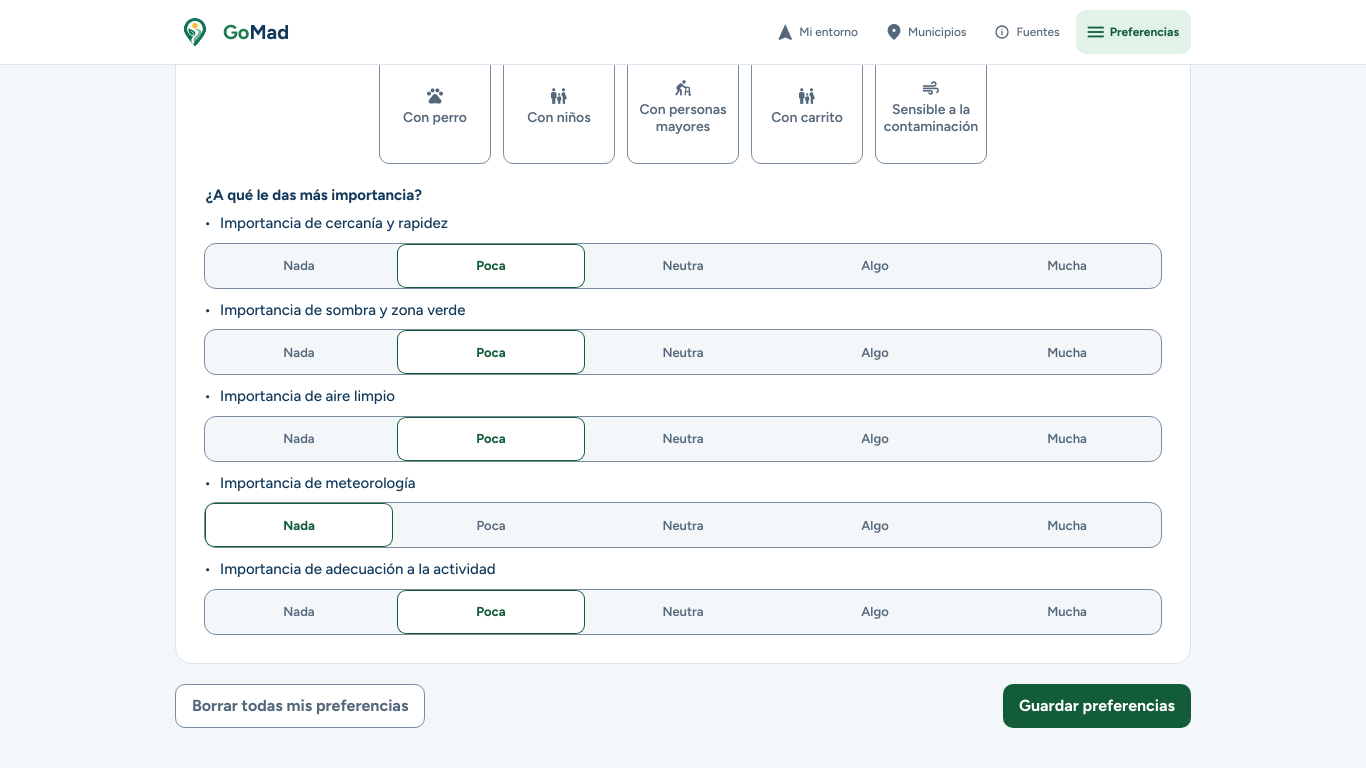
Perfil › pide confirmación antes de restablecer los pesos y permite cancelar
(page scrolled)
Click the 3rd radio button labelled "Mucha".
click(1067, 439)  # box [1047,431,1087,446]
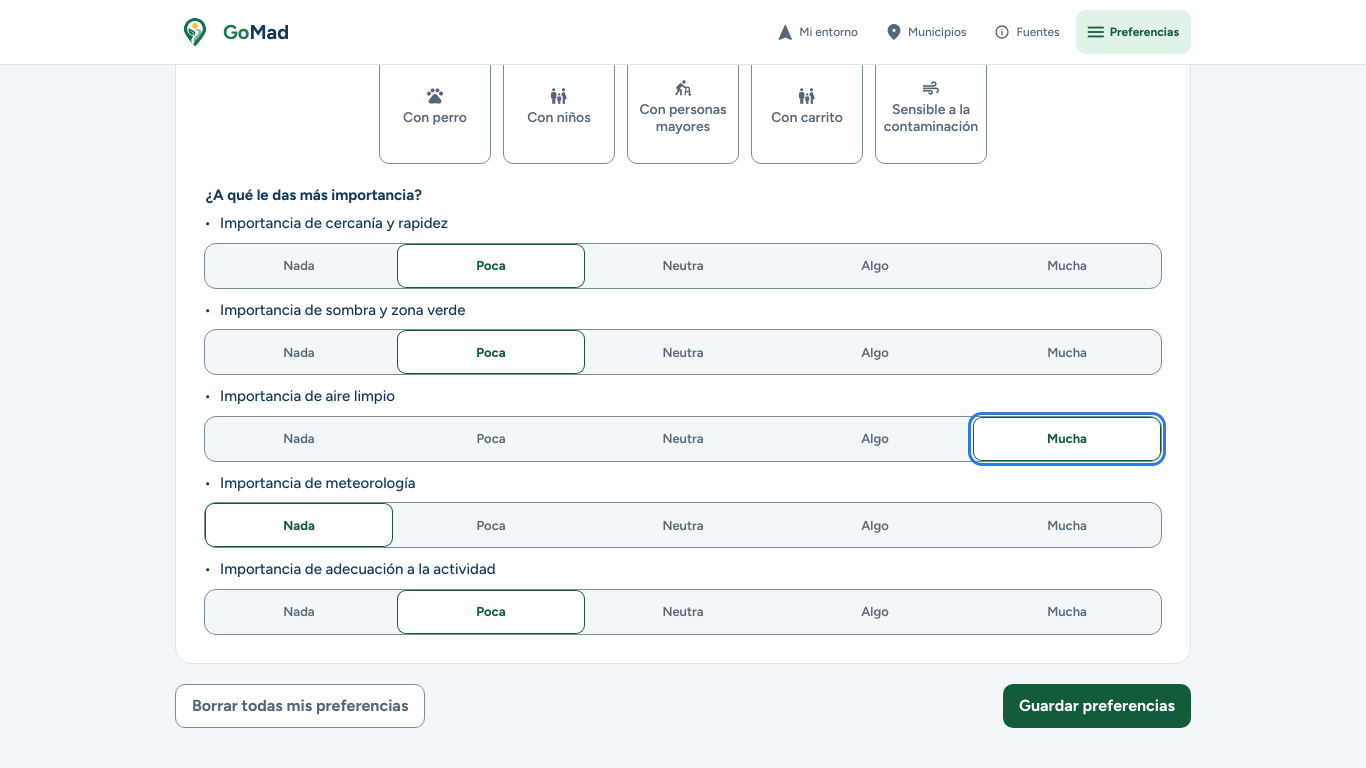
Expected: the 3rd radio button labelled "Mucha" is checked, [973,417,1161,461]
Click the button "Borrar todas mis preferencias".
click(300, 706)  # box [175,684,425,728]
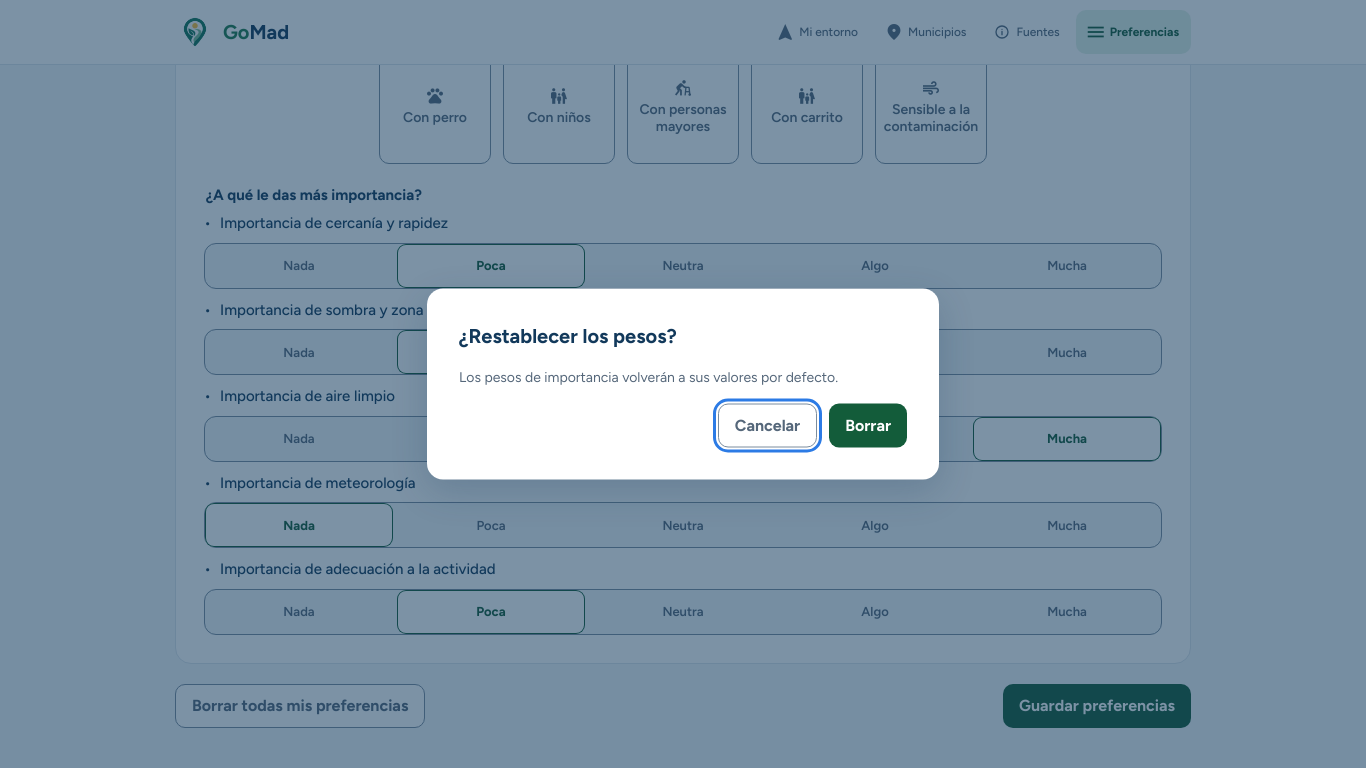
Expected: the 3rd radio button labelled "Mucha" is checked, [973,417,1161,461]
Click the button "Cancelar".
click(768, 426)  # box [718,404,817,448]
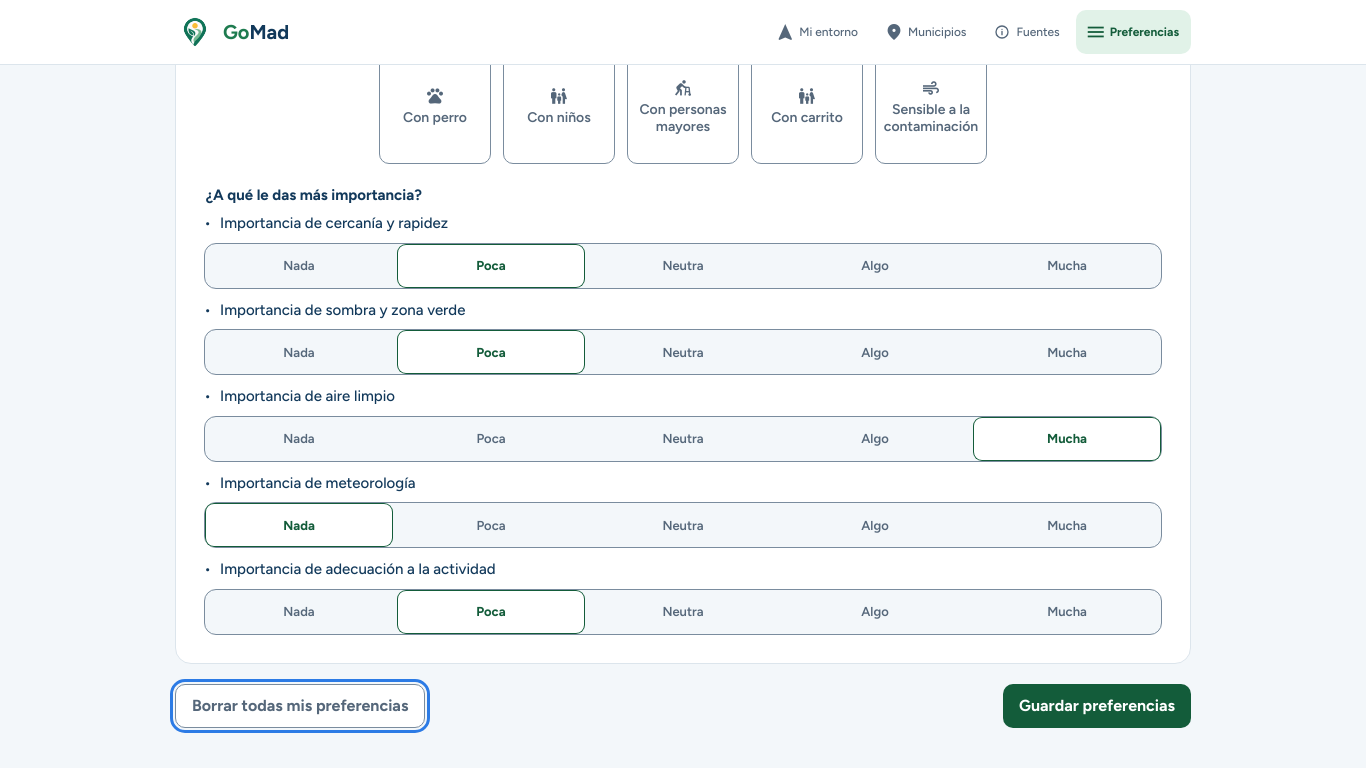
Expected: the 3rd radio button labelled "Mucha" is checked, [973,417,1161,461]
Expected: the heading "¿Restablecer los pesos?" is gone
Click the button "Borrar todas mis preferencias".
click(300, 706)  # box [175,684,425,728]
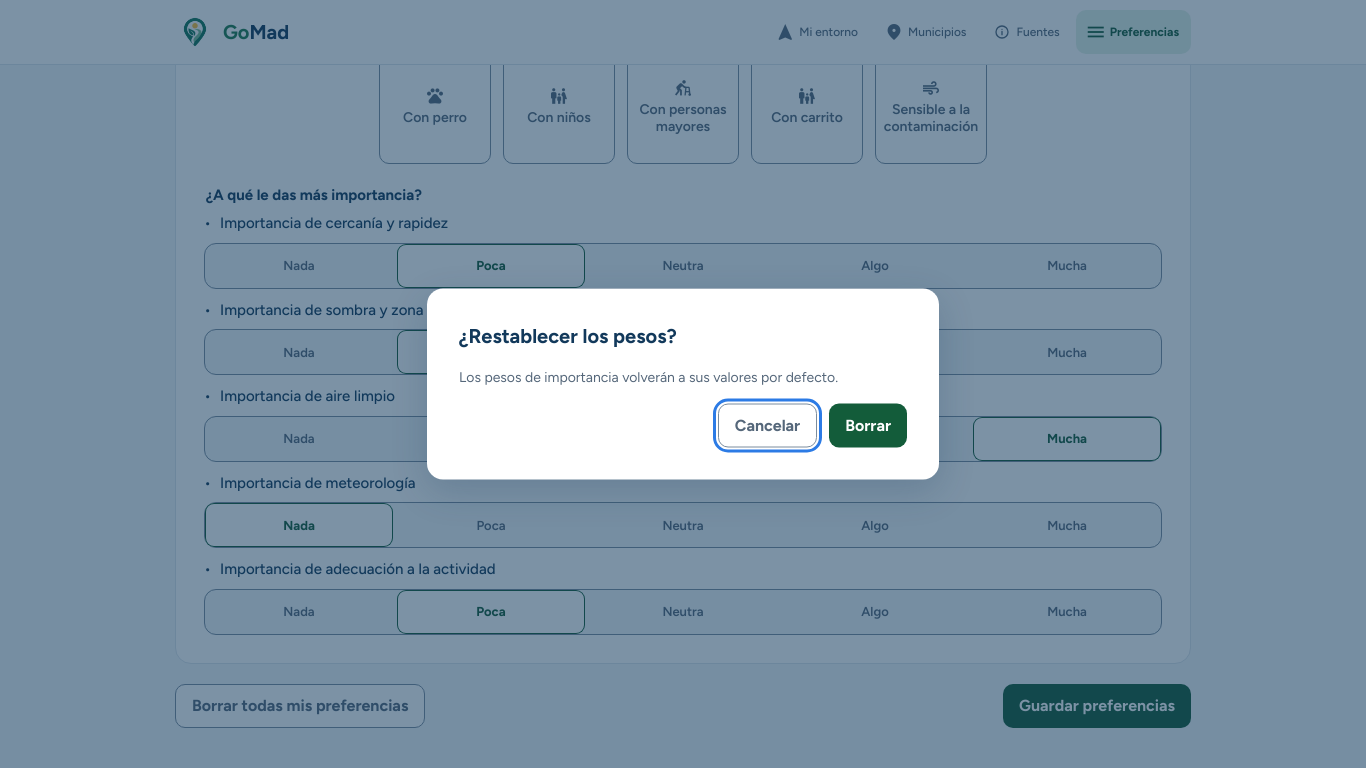
Click the button "Borrar".
click(868, 426)  # box [829,404,907,448]
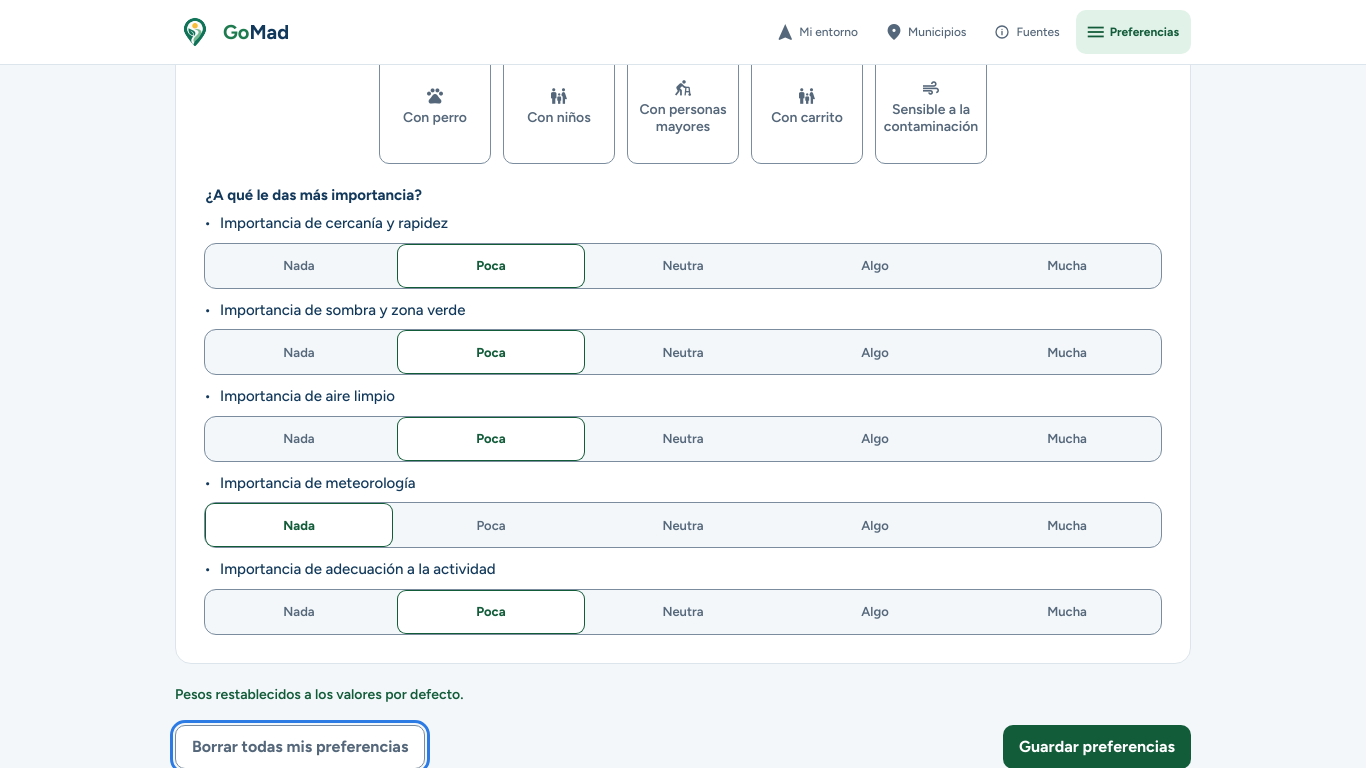
Expected: the radio button labelled "Poca" below "aire limpio" is checked, [397,417,585,461]
Expected: the message reads "Pesos restablecidos a los valores por defecto.", [175,686,464,703]
